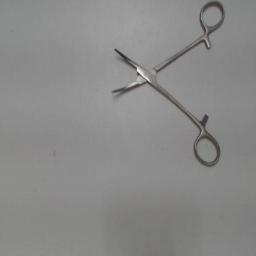Crile Artery Forceps: (108, 0, 226, 172)
